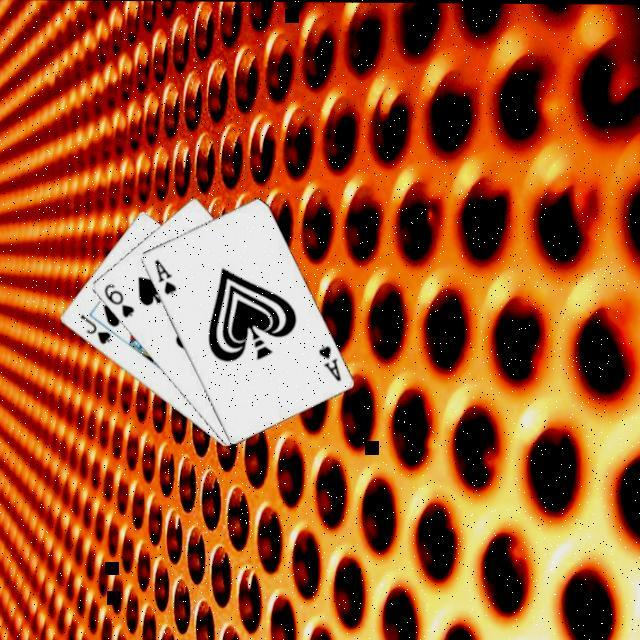6S: (103, 282, 139, 322)
AS: (316, 344, 345, 386), (153, 258, 181, 300)
JS: (78, 313, 116, 349)
